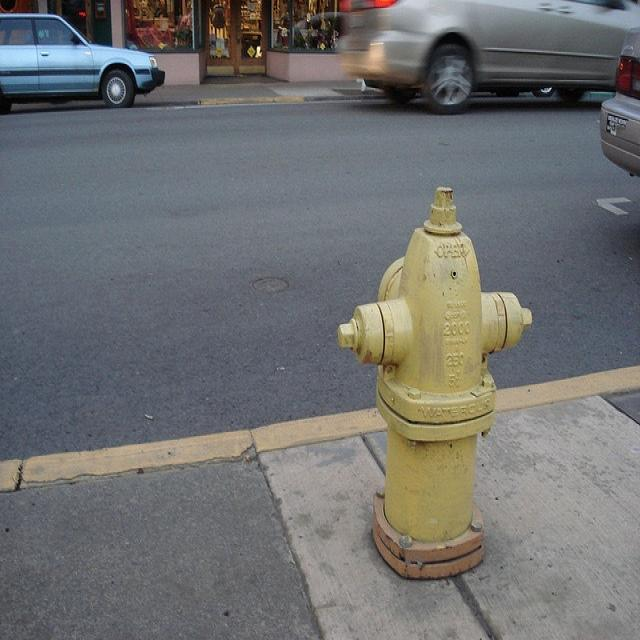car: (330, 0, 637, 116), (0, 9, 164, 115), (599, 26, 639, 182)
fire_hydrant: (334, 184, 532, 576)
